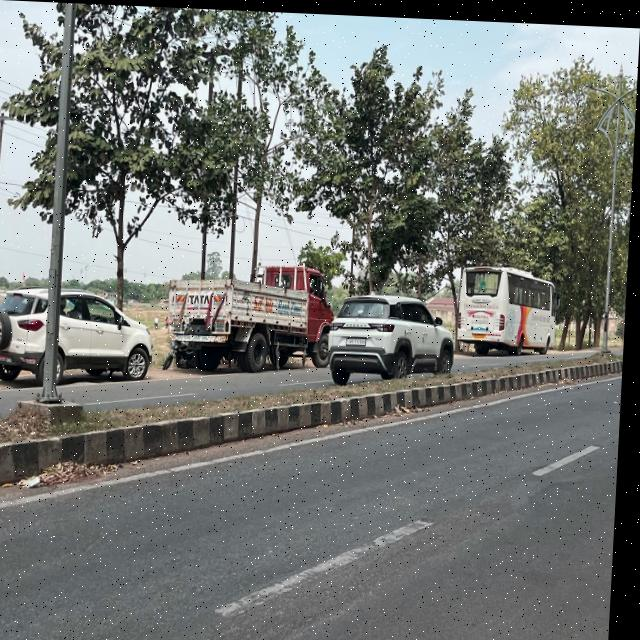bus: (452, 254, 568, 353)
car: (0, 265, 163, 390), (329, 293, 463, 381)
